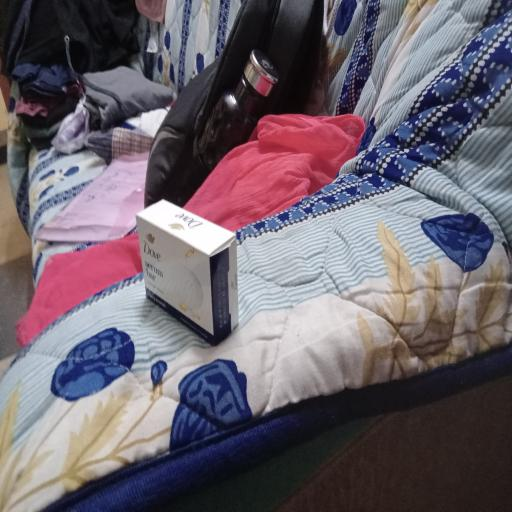Dove`1: (136, 191, 247, 355)
